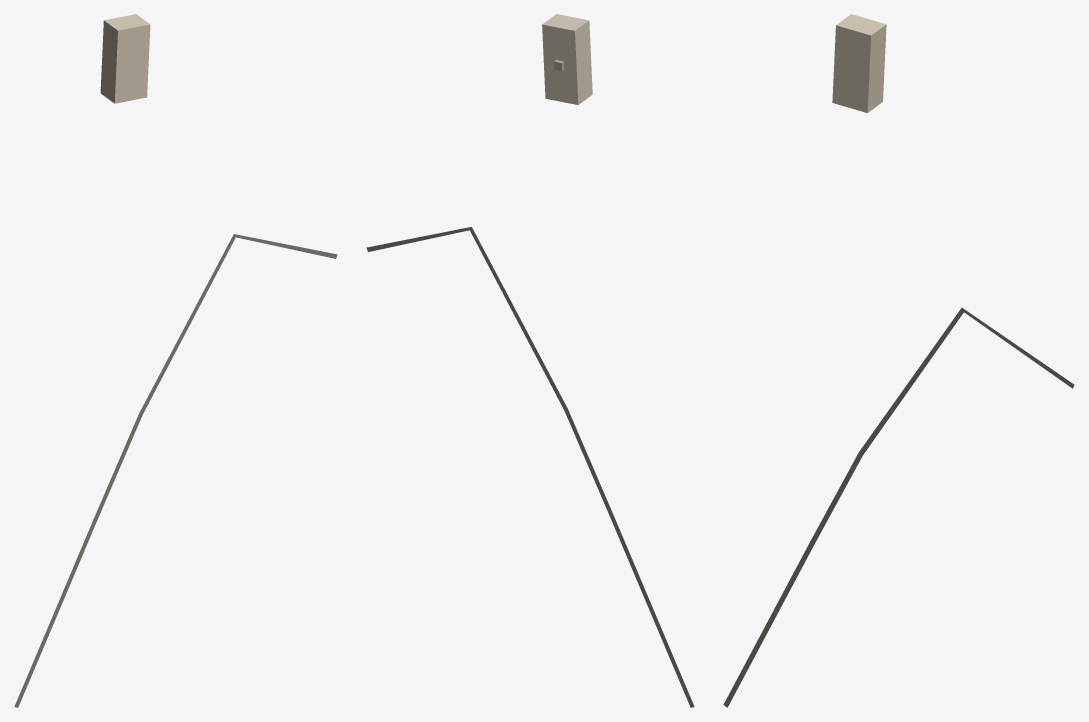
Rendered from historic-palestine-07_30_3486_3241.glb.
3 views of the same model, side by side, from view 1: azimuth 30°, elevation 25°; view 2: azimuth 150°, elevation 25°; view 3: azimuth 330°, elevation 25° (orthographic). The views are drawn at different scales.
Visible parts, largest first — view 1: Building_, Road; view 2: Building_, Road; view 3: Building_, Road.
Part boxes in pixels (<box>): Building_: <box>100,14,150,103</box>; Road: <box>14,234,337,707</box>; Building_: <box>542,14,592,104</box>; Road: <box>366,227,694,707</box>; Building_: <box>832,14,886,112</box>; Road: <box>723,307,1074,707</box>.
Bounding box in the file's own units: 98.64 × 190 × 8.7.
